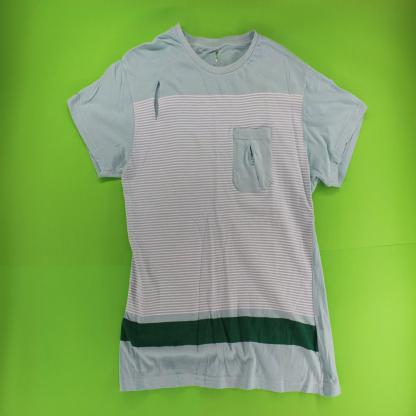hole: (153, 79, 162, 123), (248, 144, 256, 166), (212, 49, 220, 66)
